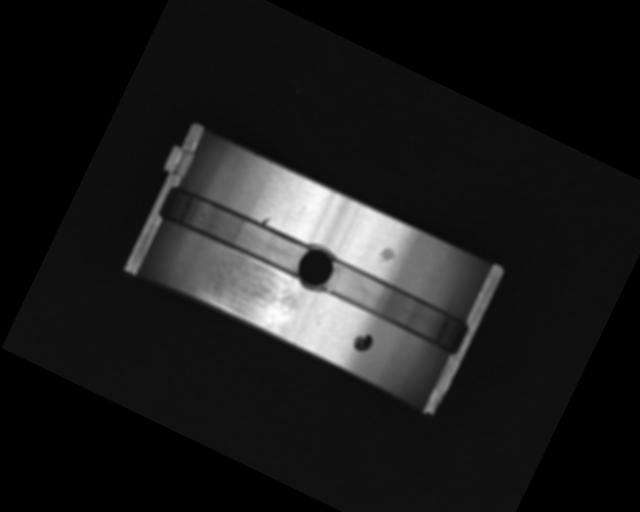blot: (349, 329, 376, 357)
bruise: (375, 243, 399, 267), (261, 214, 271, 227)
gap: (156, 178, 314, 283), (318, 257, 471, 357)
hole: (290, 240, 342, 296)
scratch: (196, 245, 309, 338)
